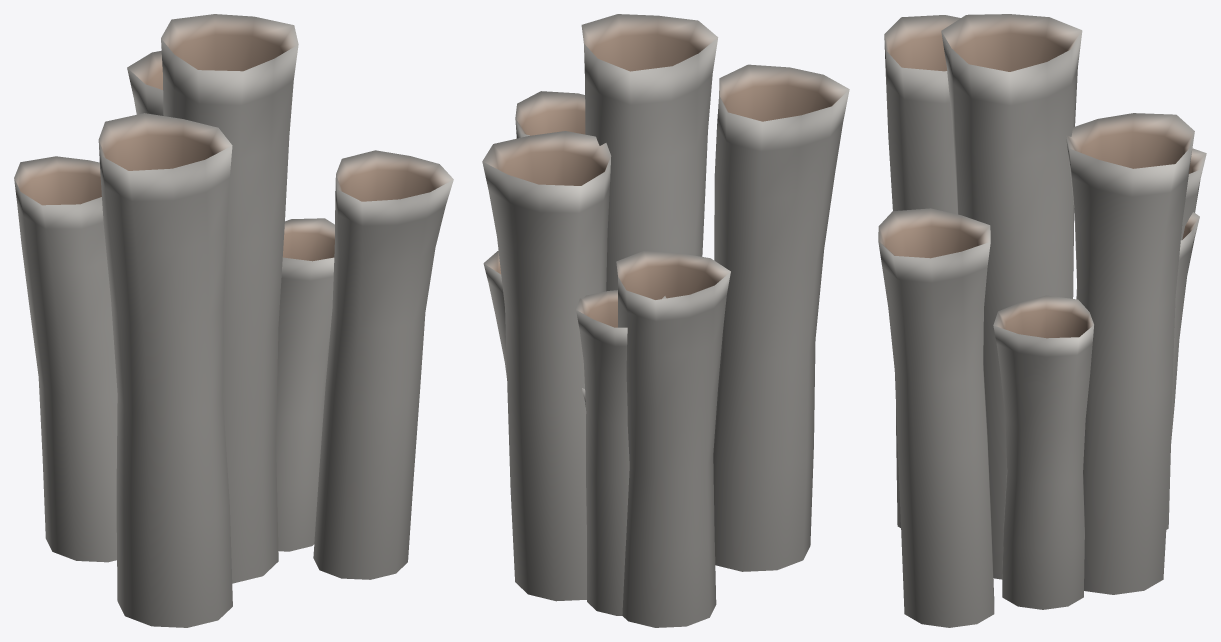
Rendered from coral-tube.glb.
3 views of the same model, side by side, from view 1: azimuth 30°, elevation 25°; view 2: azimuth 150°, elevation 25°; view 3: azimuth 270°, elevation 25° (orthographic). The views are drawn at different scales.
Parts seen in each view (by area): view 1: tube; view 2: tube; view 3: tube.
Part boxes in pixels (bbox=[...]): tube: bbox=[14, 14, 453, 627]; tube: bbox=[482, 14, 849, 627]; tube: bbox=[878, 14, 1206, 627].
Size of the model in its own units: 0.6637 by 1 by 0.5744.
